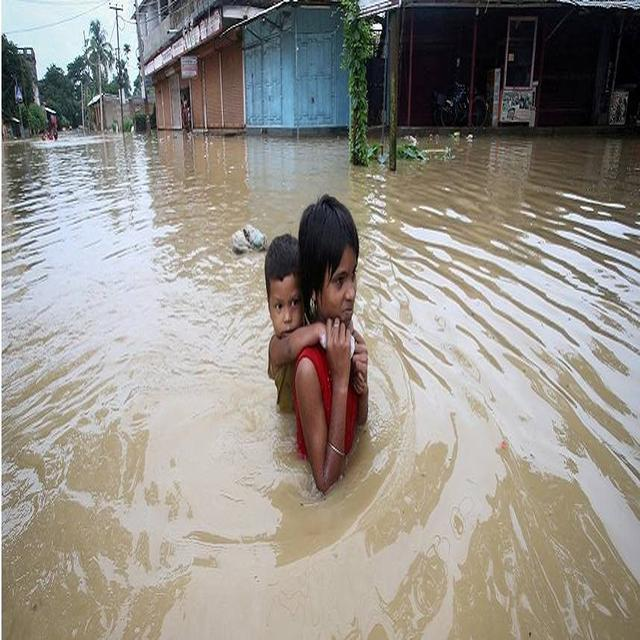Person-RiskLevel3: (242, 190, 413, 511)
